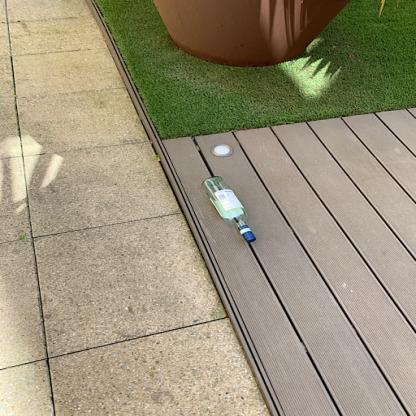trash: (194, 173, 262, 248)
